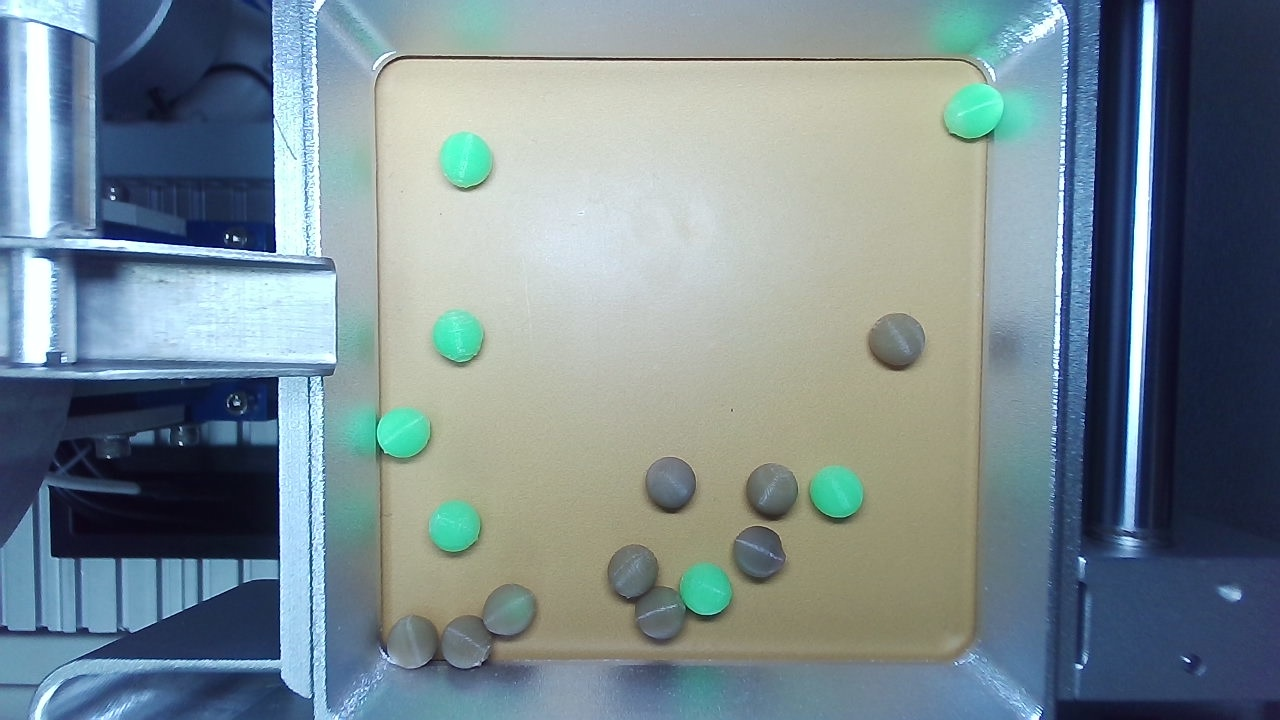XLabel: (860, 90, 927, 160)
transparenexcept: (699, 171, 1160, 580)
